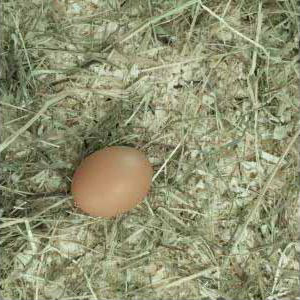egg: (70, 145, 154, 218)
